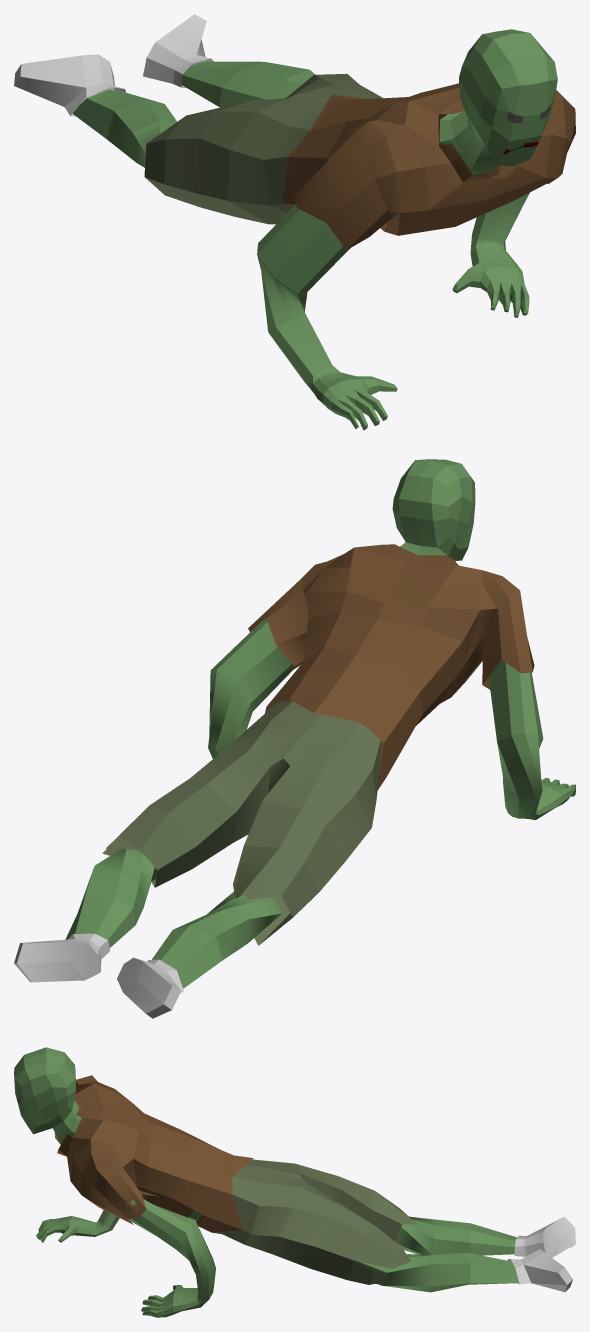
Rendered from ZombieCrawl(40).obj.
3 views of the same model, one above another, from view 1: azimuth 30°, elevation 25°; view 2: azimuth 150°, elevation 25°; view 3: azimuth 270°, elevation 25° (orthographic). The views are drawn at different scales.
Visible parts, largest first — view 1: Object001; view 2: Object001; view 3: Object001.
Part boxes in pixels (x1,y1,x2,y2): Object001: (14, 14, 575, 430); Object001: (14, 459, 575, 1018); Object001: (14, 1047, 575, 1317).
Size of the model in its own units: 25.94 by 26.03 by 56.6.
